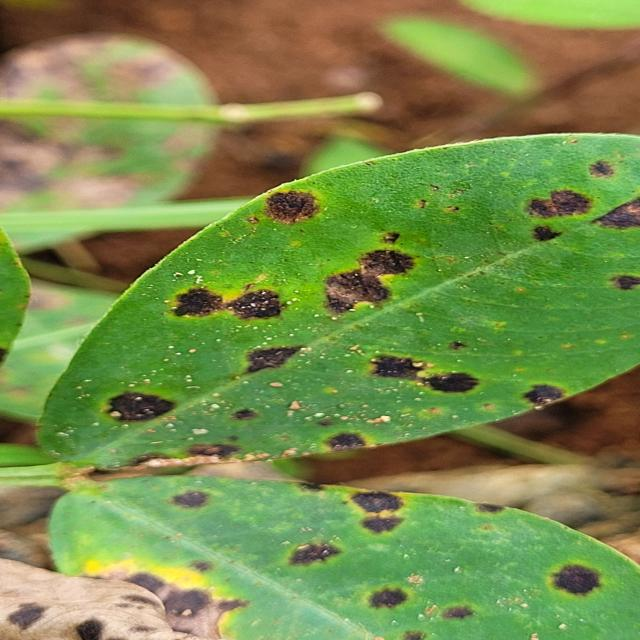Ground nut_tikka leaf spot: (45, 135, 640, 471), (54, 478, 640, 640)
